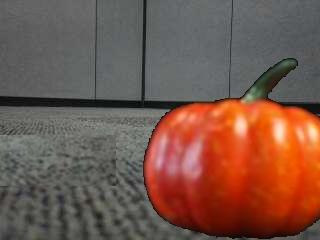Pumpkin: (143, 52, 320, 240)
